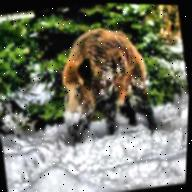boar: (41, 12, 165, 157)
